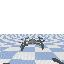drone: (19, 37, 45, 51)
